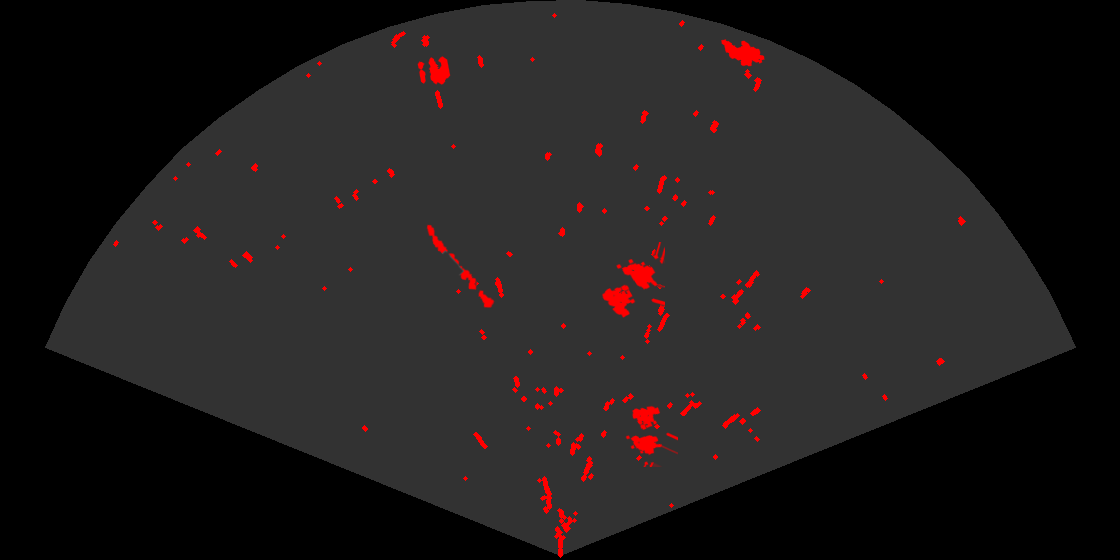AUV: (720, 38, 766, 68)
ball: (416, 55, 452, 86)
cage: (600, 242, 665, 319), (624, 404, 678, 467)
chain: (425, 223, 496, 309)
